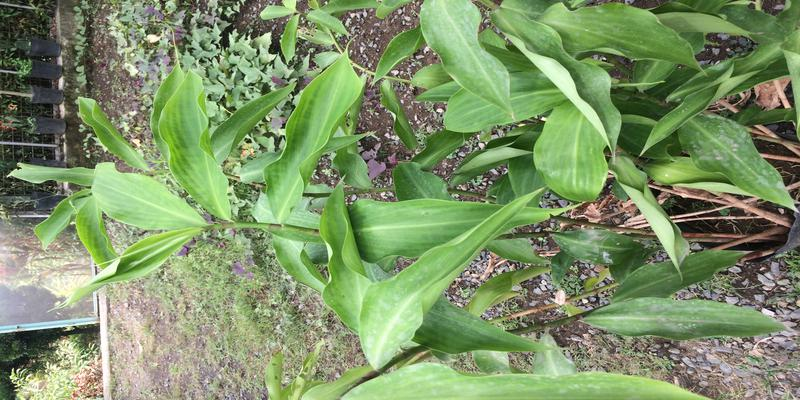Insulin: (417, 3, 783, 351)
